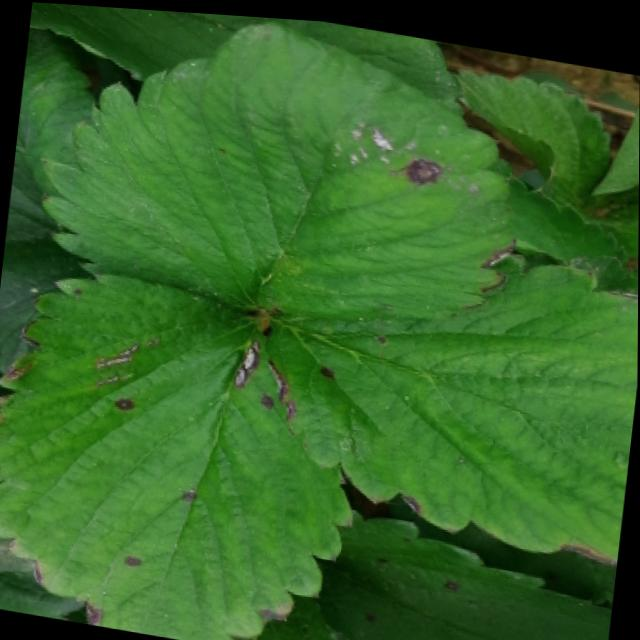Leaf Spot: (38, 14, 515, 313), (0, 268, 353, 640), (267, 246, 639, 557), (314, 503, 613, 640)
